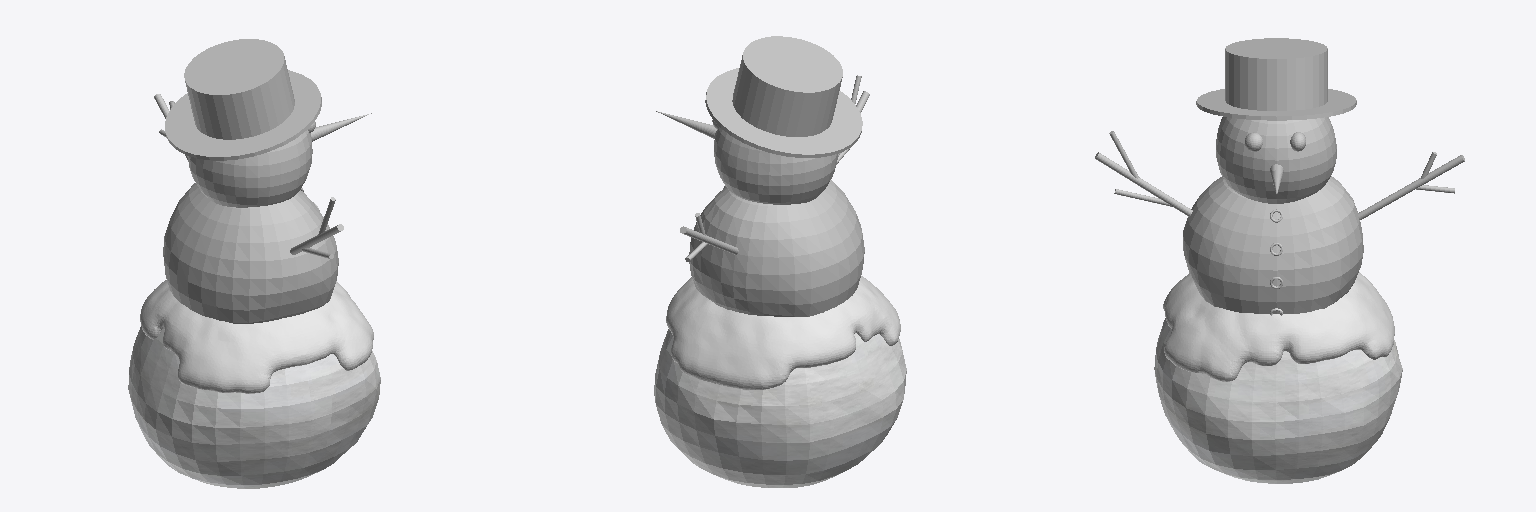
3 renders of one model, left to right at view 1: azimuth 30°, elevation 25°; view 2: azimuth 150°, elevation 25°; view 3: azimuth 270°, elevation 25°, orthographic.
Parts seen in each view (by area): view 1: Sphere, Sphere.001, SnowBall.001, Cylinder.001, Sphere.002, Cylinder; view 2: Sphere, Sphere.001, SnowBall.001, Cylinder.001, Sphere.002, Cylinder; view 3: Sphere, Sphere.001, SnowBall.001, Sphere.002, Cylinder.001, Cylinder, Cylinder.002, Cylinder.006.
Part boxes in pixels (x1,y1,x2,y2): Sphere: (128, 326, 380, 488); Sphere.001: (163, 183, 338, 323); SnowBall.001: (140, 280, 373, 393); Cylinder.001: (184, 39, 294, 139); Sphere.002: (188, 130, 312, 207); Cylinder: (165, 70, 321, 160); Sphere: (654, 329, 906, 487); Sphere.001: (689, 180, 864, 316); SnowBall.001: (666, 276, 900, 389); Cylinder.001: (732, 36, 842, 136); Sphere.002: (714, 127, 837, 204); Cylinder: (705, 68, 862, 157); Sphere: (1154, 318, 1402, 483); Sphere.001: (1183, 176, 1363, 313); SnowBall.001: (1163, 272, 1394, 381); Sphere.002: (1216, 117, 1336, 203); Cylinder.001: (1225, 38, 1327, 110); Cylinder: (1196, 89, 1356, 120); Cylinder.002: (1358, 155, 1464, 219); Cylinder.006: (1095, 152, 1192, 216).
Size of the model in its own units: 2.48 by 4.27 by 3.47.
10 materials, 1 textured.